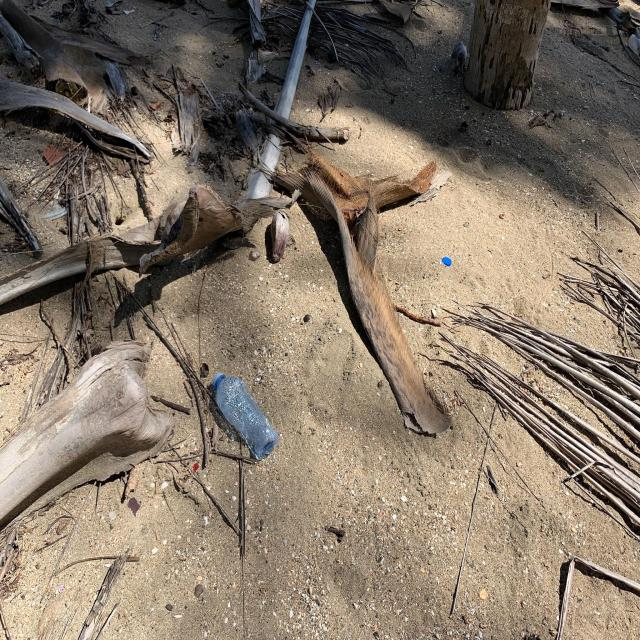litter: (216, 375, 279, 460), (211, 371, 223, 386), (441, 257, 452, 266)
